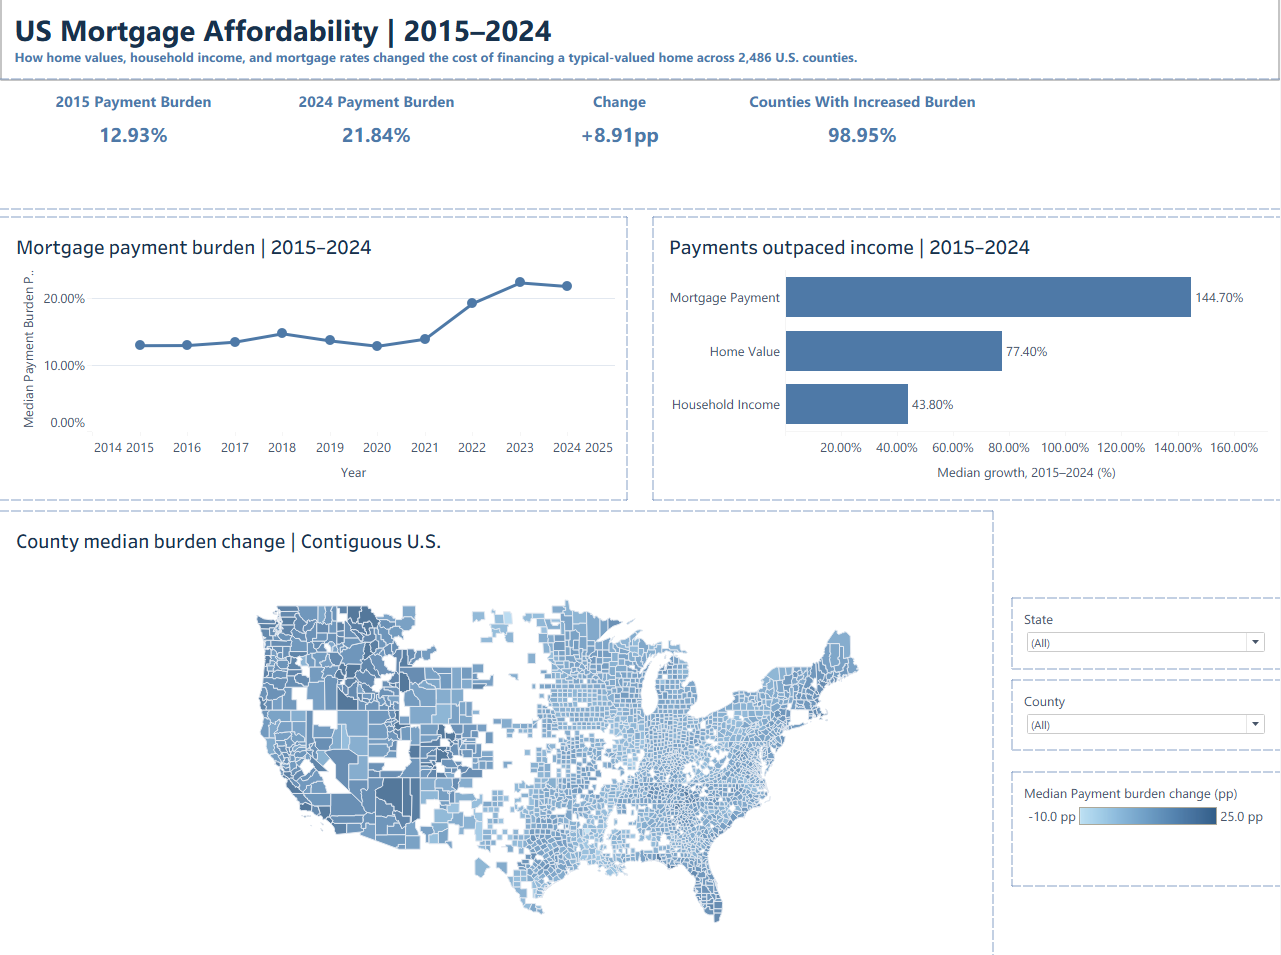

This screenshot's page, from the dashboard's own definition file:
{"tool":"tableau","page":{"name":"Mortgage Affordability","canvas":[1280,1080],"ordinal":0},"visuals":[{"type":"text","box":[0,0,1280,81.6]},{"type":"worksheet","title":"KPIs","mark":"Automatic","box":[0,81.6,1280,130.6]},{"type":"worksheet","title":"Mortgage payment burden | 2015–2024","mark":"Automatic","rows":["median_payment_burden_pct","median_payment_burden_pct"],"cols":["year"],"box":[0,219.9,626.9,283.1]},{"type":"worksheet","title":"Payments outpaced income | 2015–2024","mark":"Automatic","rows":["Metric"],"cols":["Median Growth (%)"],"box":[653.1,219.9,626.9,283.1]},{"type":"worksheet","title":"County median burden change | Contiguous U.S.","mark":"Automatic","box":[0,513.9,992.7,446.4]},{"type":"filter","title":"County median burden change | Contiguous U.S.","param":"[federated.0dgypka0lcwoy41ckwlhk1q395w4].[none:state:nk]","box":[1012.2,601,267.8,70.8]},{"type":"filter","title":"County median burden change | Contiguous U.S.","param":"[federated.0dgypka0lcwoy41ckwlhk1q395w4].[none:county:nk]","box":[1012.2,682.6,267.8,70.8]},{"type":"legend","title":"County median burden change | Contiguous U.S.","param":"[federated.0dgypka0lcwoy41ckwlhk1q395w4].[med:burden_change_pp:qk]","box":[1012.2,775.2,267.8,114.3]},{"type":"text","box":[0,965.7,1280,114.3]}]}

Visuals, with their boxes on the page's 1280x1080 design canvas (x1, y1, x2, y2). These are canvas units, not pixel positions in the 1281x955 screenshot, which may show the page scaled, cropped or inside an application window:
text: 0:0:1280:82
"KPIs" worksheet: 0:82:1280:212
"Mortgage payment burden | 2015–2024" worksheet: 0:220:627:503
"Payments outpaced income | 2015–2024" worksheet: 653:220:1280:503
"County median burden change | Contiguous U.S." worksheet: 0:514:993:960
"County median burden change | Contiguous U.S." filter: 1012:601:1280:672
"County median burden change | Contiguous U.S." filter: 1012:683:1280:753
"County median burden change | Contiguous U.S." legend: 1012:775:1280:890
text: 0:966:1280:1080
